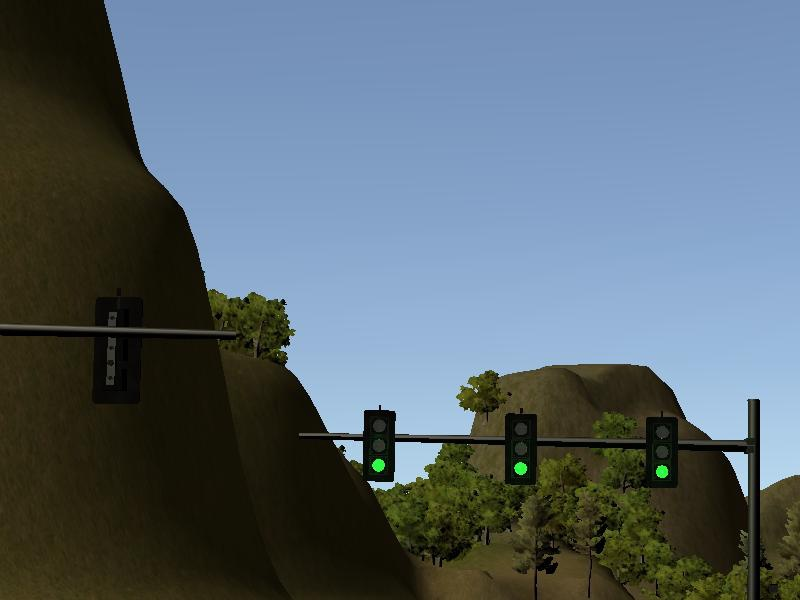Green: (505, 414, 538, 484), (365, 410, 395, 482), (647, 417, 676, 489)
